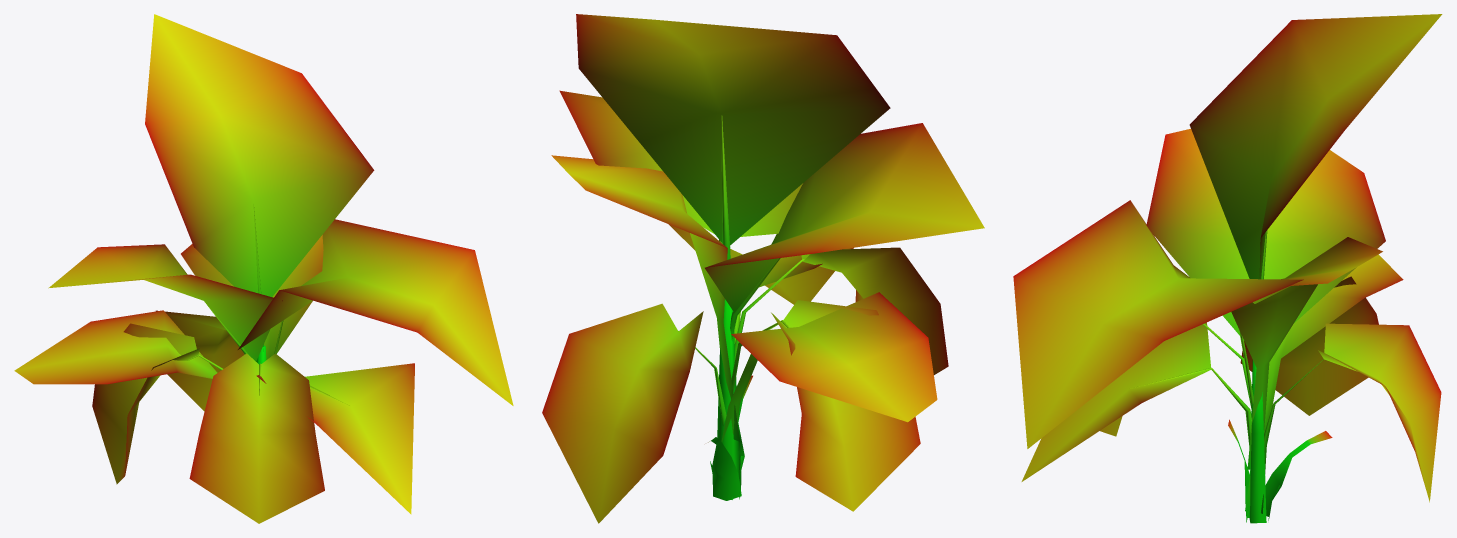
Rendered from Cat Palm_LOD3_Var2_tjejafeia.fbx.
3 renders of one model, left to right at view 1: azimuth 30°, elevation 25°; view 2: azimuth 150°, elevation 25°; view 3: azimuth 270°, elevation 25°, orthographic. The views are drawn at different scales.
Parts seen in each view (by area): view 1: _4035_Var2_LOD3; view 2: _4035_Var2_LOD3; view 3: _4035_Var2_LOD3.
Part boxes in pixels (left/top/right/bottom): _4035_Var2_LOD3: left=14, top=14, right=513, bottom=523; _4035_Var2_LOD3: left=542, top=14, right=984, bottom=523; _4035_Var2_LOD3: left=1013, top=14, right=1442, bottom=523.
Bounding box in the file's own units: 105 × 116 × 91.4.
